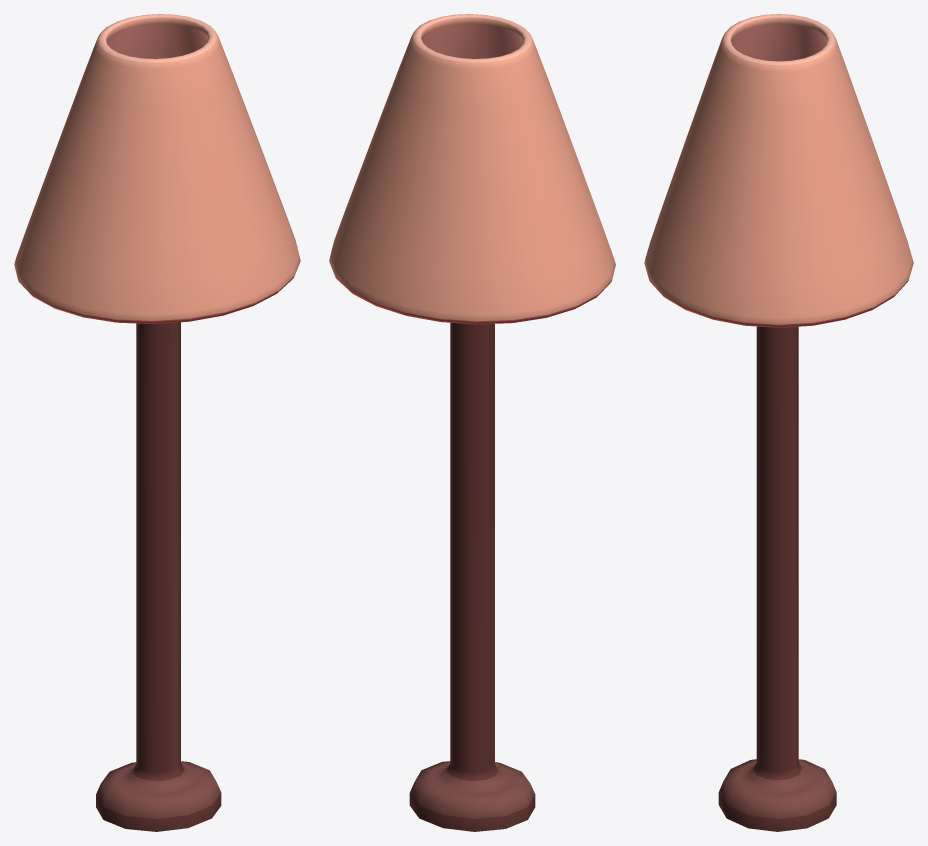
File: 3d_lamp.fbx
3 views of the same model, side by side, from view 1: azimuth 30°, elevation 25°; view 2: azimuth 150°, elevation 25°; view 3: azimuth 270°, elevation 25° (orthographic).
Parts seen in each view (by area): view 1: 3d_lamp; view 2: 3d_lamp; view 3: 3d_lamp.
Part boxes in pixels (box(x1,y1,x2,y2)): 3d_lamp: box(14, 14, 300, 831); 3d_lamp: box(329, 14, 615, 831); 3d_lamp: box(644, 14, 913, 831).
Size of the model in its own units: 0.5133 by 1.49 by 0.4753.
